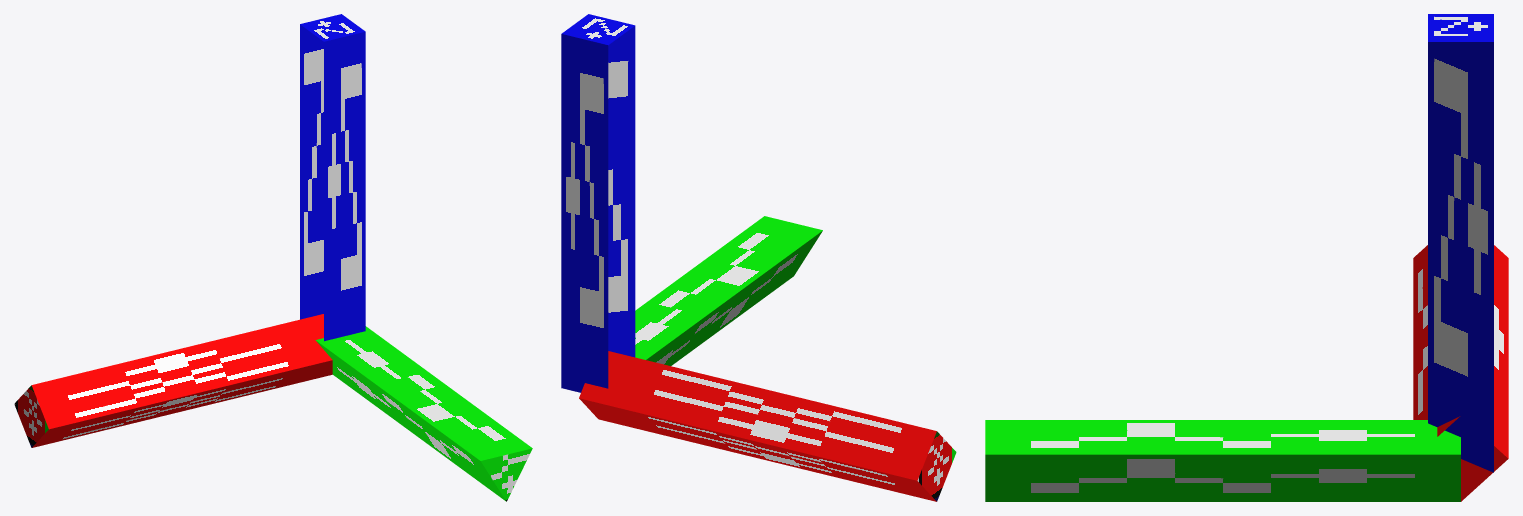
File: arrows+z+y.obj
3 views of the same model, side by side, from view 1: azimuth 30°, elevation 25°; view 2: azimuth 150°, elevation 25°; view 3: azimuth 270°, elevation 25° (orthographic). The views are drawn at different scales.
Parts seen in each view (by area): view 1: Cylinder; view 2: Cylinder; view 3: Cylinder.
Boxes of the visible parts, x1=… form: Cylinder: x1=14, y1=14, x2=532, y2=501; Cylinder: x1=561, y1=14, x2=956, y2=501; Cylinder: x1=985, y1=14, x2=1508, y2=501.
Bounding box in the file's own units: 1.09 × 1.1 × 1.1.
Materials: 1 (1 with a texture image).
